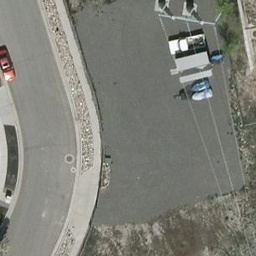car: (168, 32, 207, 55), (1, 45, 16, 81)
